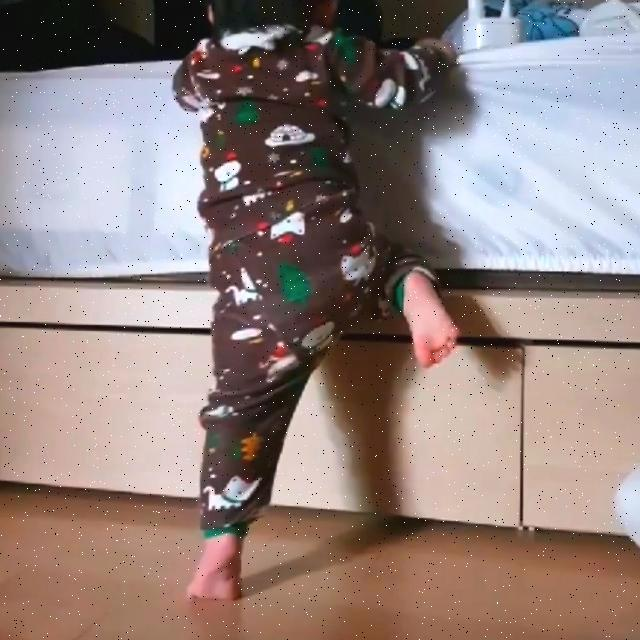child: (173, 0, 461, 593)
